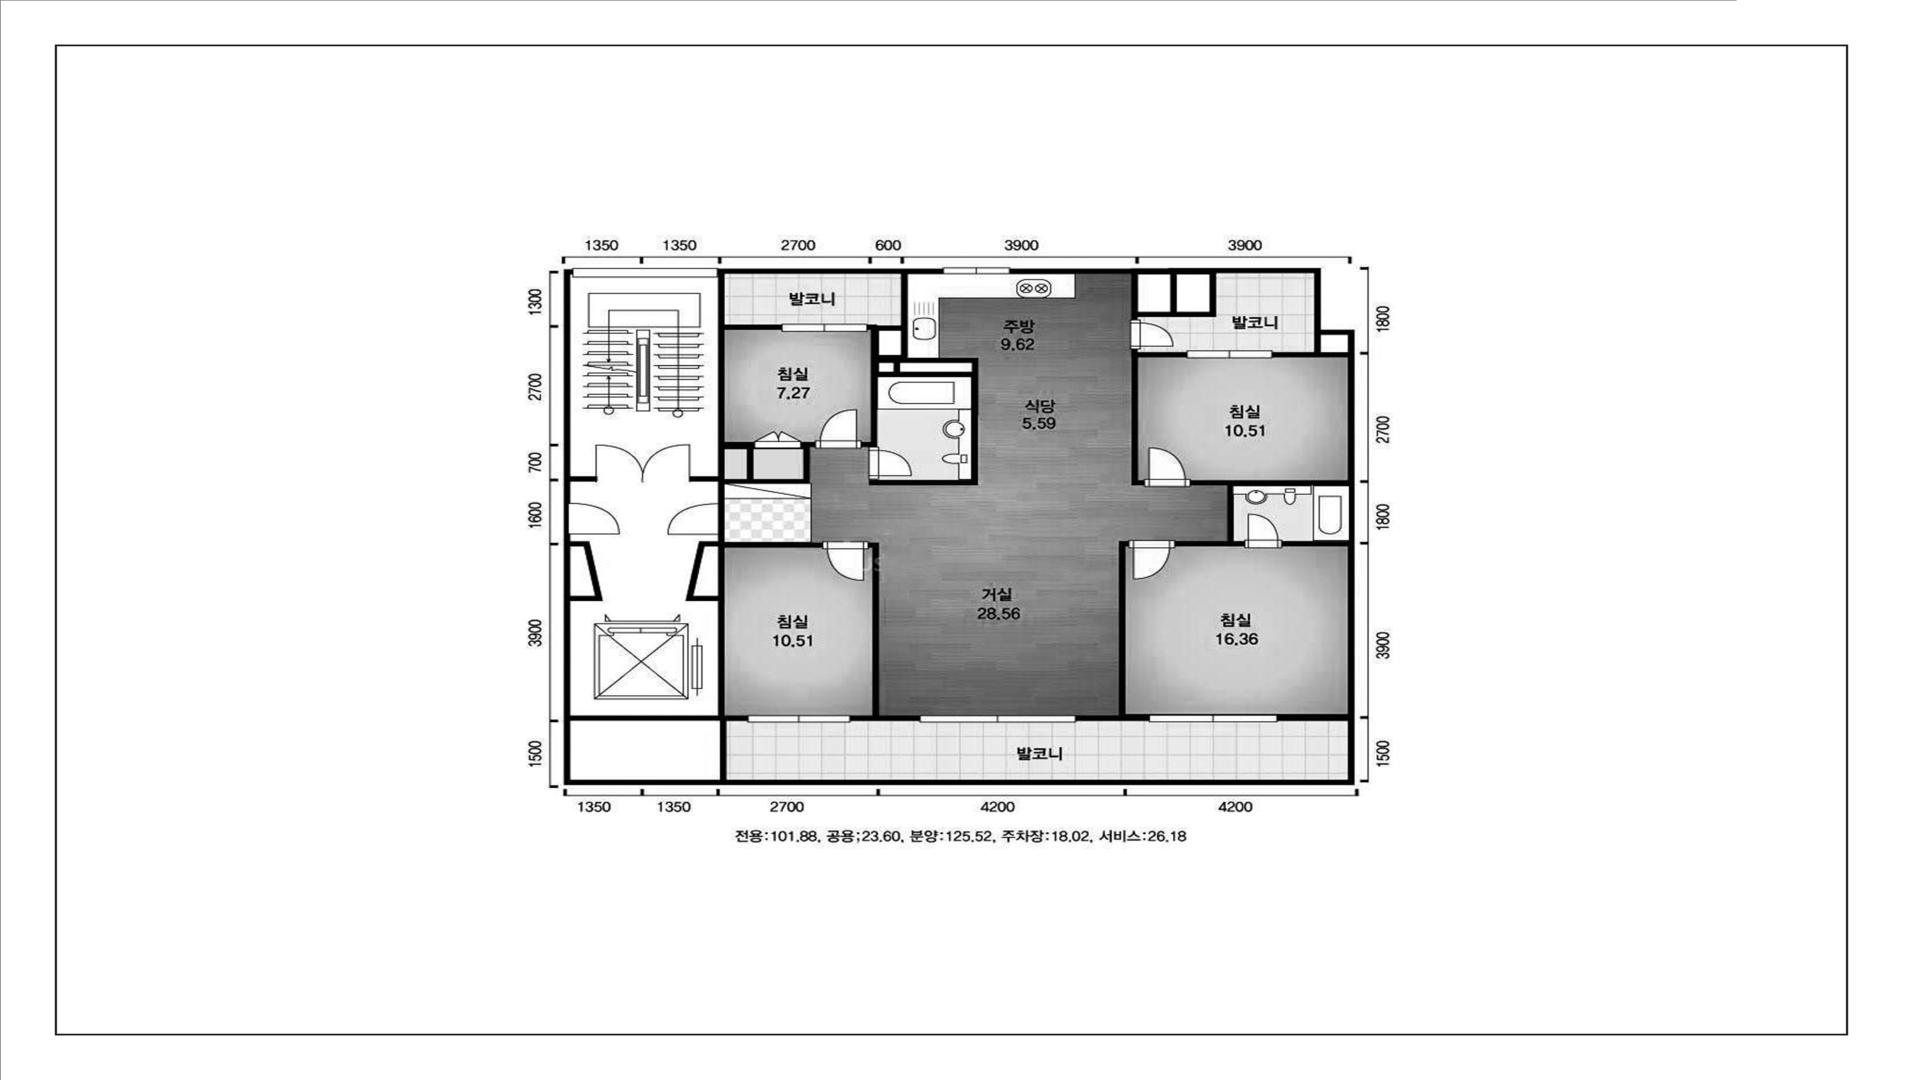door: (596, 443, 690, 483), (1145, 444, 1191, 487), (822, 541, 869, 582), (815, 406, 862, 447), (1130, 541, 1175, 582), (667, 504, 725, 534), (869, 447, 914, 479), (1130, 319, 1175, 348), (1245, 513, 1282, 547)
wall: (563, 268, 1356, 786), (570, 534, 823, 779), (690, 274, 815, 504), (862, 274, 978, 485), (1076, 541, 1150, 723), (849, 541, 920, 723), (1175, 480, 1348, 547), (1130, 348, 1188, 487), (1130, 274, 1217, 320), (571, 541, 603, 601), (1271, 335, 1348, 359), (717, 268, 944, 274), (694, 546, 719, 596), (1276, 713, 1348, 723), (1282, 539, 1348, 547), (571, 476, 596, 481)
window: (572, 268, 717, 278), (920, 715, 1076, 723), (1150, 713, 1276, 723), (749, 715, 849, 723), (782, 323, 868, 331), (1188, 351, 1273, 359), (943, 268, 1011, 274)
